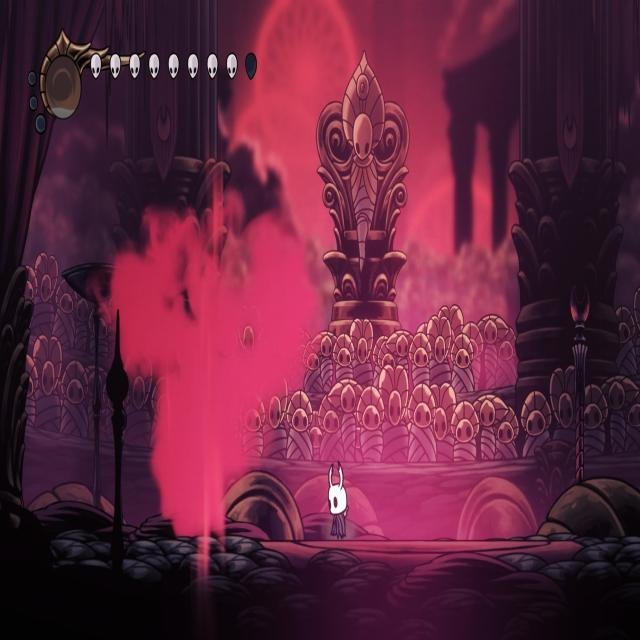Player: (325, 459, 350, 544)
